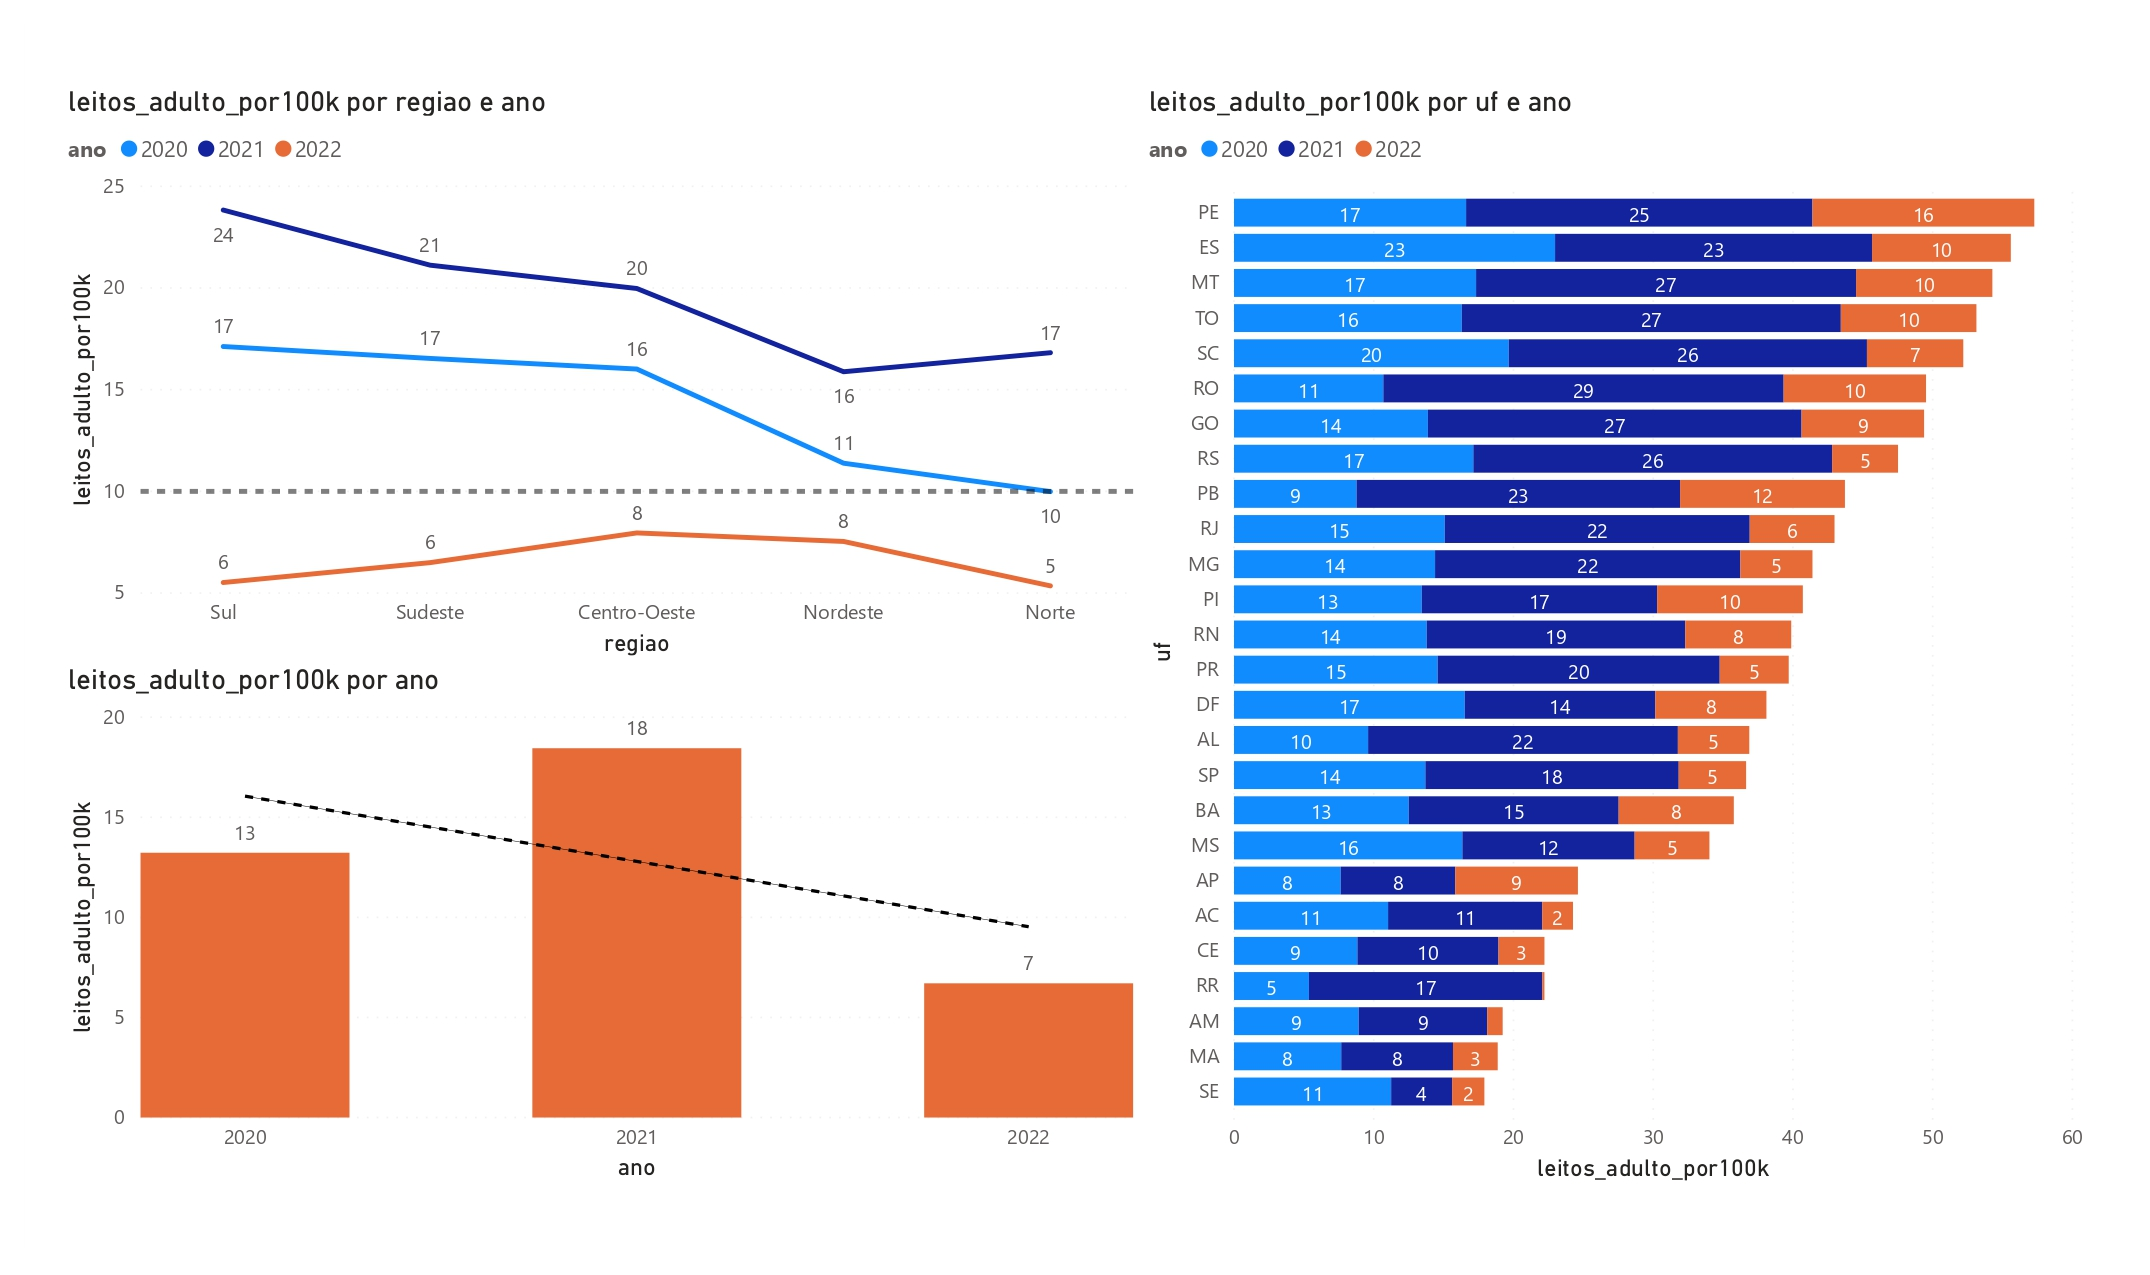

This screenshot's page, from the dashboard's own definition file:
{"tool":"powerbi","page":{"name":"UTI por 100K","canvas":[1280,720],"ordinal":5},"visuals":[{"type":"lineChart","fields":{"Y":["Avg(projetotcc fato_recursos.quant_leitos_adulto_por100k)"],"Category":["projetotcc dim_local.regiao"],"Series":["projetotcc dim_tempo.ano"]},"box":[21,23,659,353],"z":3},{"type":"barChart","fields":{"Y":["Avg(projetotcc fato_recursos.quant_leitos_adulto_por100k)"],"Category":["projetotcc dim_local.uf"],"Series":["projetotcc dim_tempo.ano"]},"box":[680.5,23.1,580.2,672.8],"z":1000},{"type":"clusteredColumnChart","fields":{"Category":["projetotcc dim_tempo.ano"],"Y":["Avg(projetotcc fato_recursos.quant_leitos_adulto_por100k)"]},"box":[21.2,375.9,659.3,320],"z":2000}]}

Visuals, with their boxes on the page's 1280x720 design canvas (x1, y1, x2, y2). These are canvas units, not pixel positions in the 2150x1275 screenshot, which may show the page scaled, cropped or inside an application window:
lineChart - Avg(projetotcc fato_recursos.quant_leitos_adulto_por100k) x projetotcc dim_local.regiao: left=21, top=23, right=680, bottom=376
barChart - Avg(projetotcc fato_recursos.quant_leitos_adulto_por100k) x projetotcc dim_local.uf: left=680, top=23, right=1261, bottom=696
clusteredColumnChart - projetotcc dim_tempo.ano x Avg(projetotcc fato_recursos.quant_leitos_adulto_por100k): left=21, top=376, right=680, bottom=696
